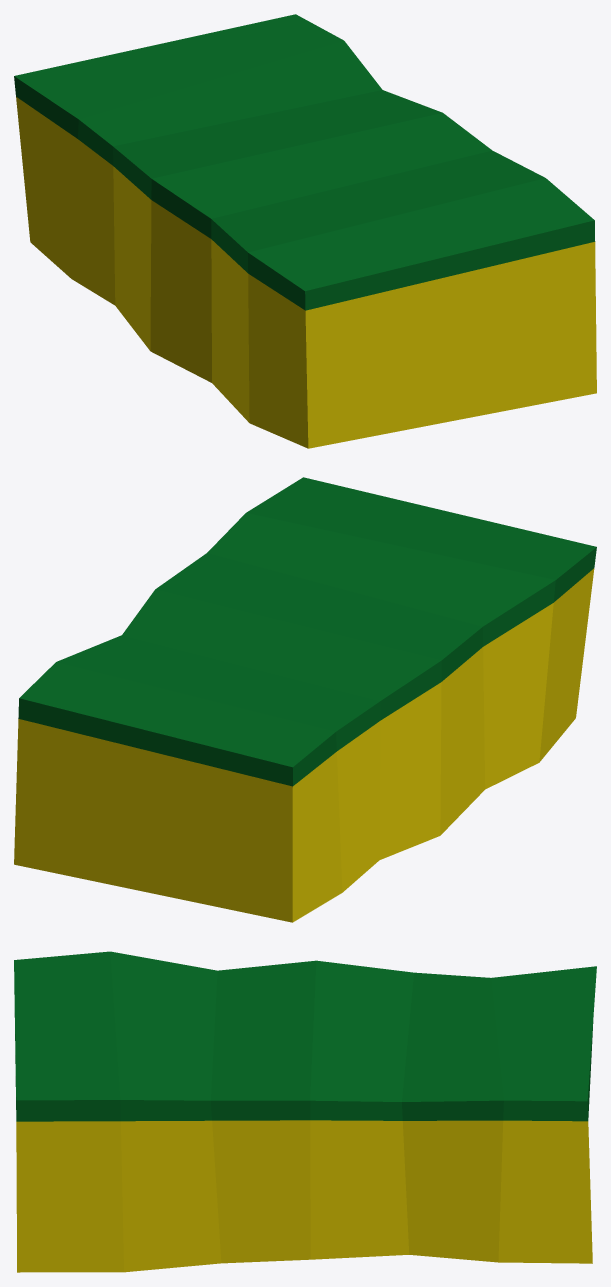
Rendered from Esponja.fbx.
3 views of the same model, one above another, from view 1: azimuth 30°, elevation 25°; view 2: azimuth 150°, elevation 25°; view 3: azimuth 270°, elevation 25° (orthographic). The views are drawn at different scales.
Parts seen in each view (by area): view 1: Cube.066; view 2: Cube.066; view 3: Cube.066.
Boxes of the visible parts, <box> form: Cube.066: <box>14,14,596,448</box>; Cube.066: <box>14,477,596,922</box>; Cube.066: <box>14,951,596,1272</box>.
Size of the model in its own units: 6.93 by 3.92 by 11.75.
